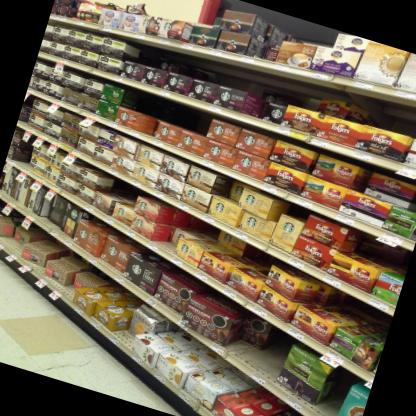empty_space: (230, 337, 288, 384)
